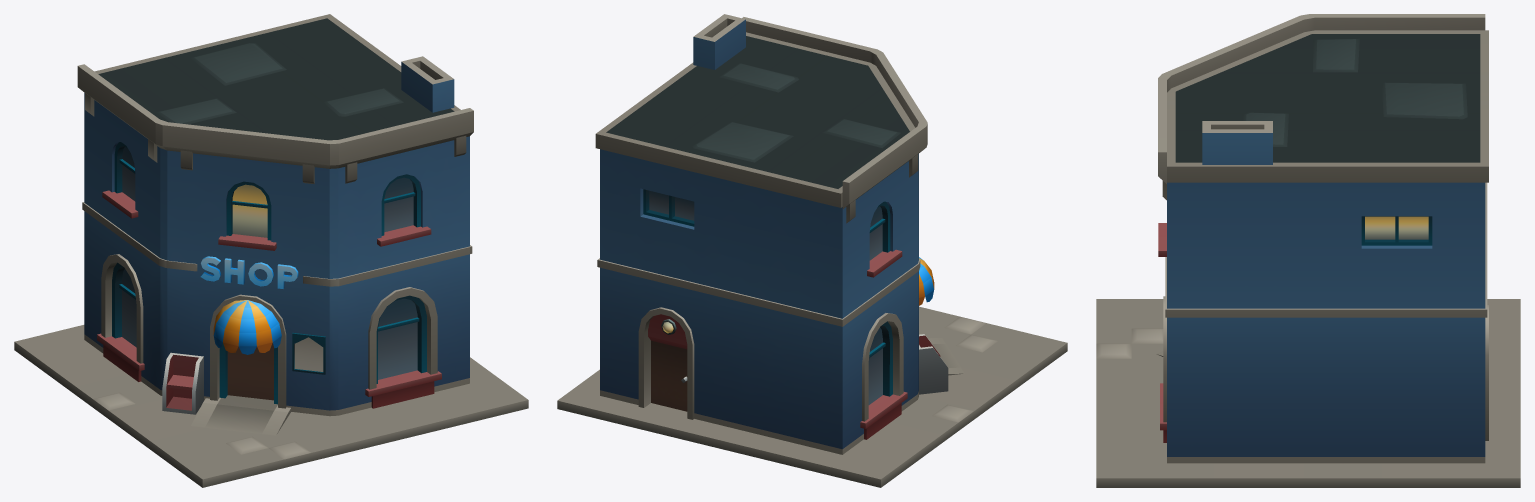
The model's file is Building_6A.fbx.
3 renders of one model, left to right at view 1: azimuth 30°, elevation 25°; view 2: azimuth 150°, elevation 25°; view 3: azimuth 270°, elevation 25°, orthographic. The views are drawn at different scales.
Visible parts, largest first — view 1: Building_6A, Window_Lights_6A; view 2: Building_6A; view 3: Building_6A, Window_Lights_6A.
Boxes of the visible parts, bbox=[...] form: Building_6A: bbox=[14, 14, 528, 487]; Window_Lights_6A: bbox=[232, 184, 267, 237]; Building_6A: bbox=[557, 14, 1067, 487]; Building_6A: bbox=[1096, 14, 1520, 487]; Window_Lights_6A: bbox=[1365, 216, 1428, 239].
Bounding box in the file's own units: 12 × 10.6 × 12.
